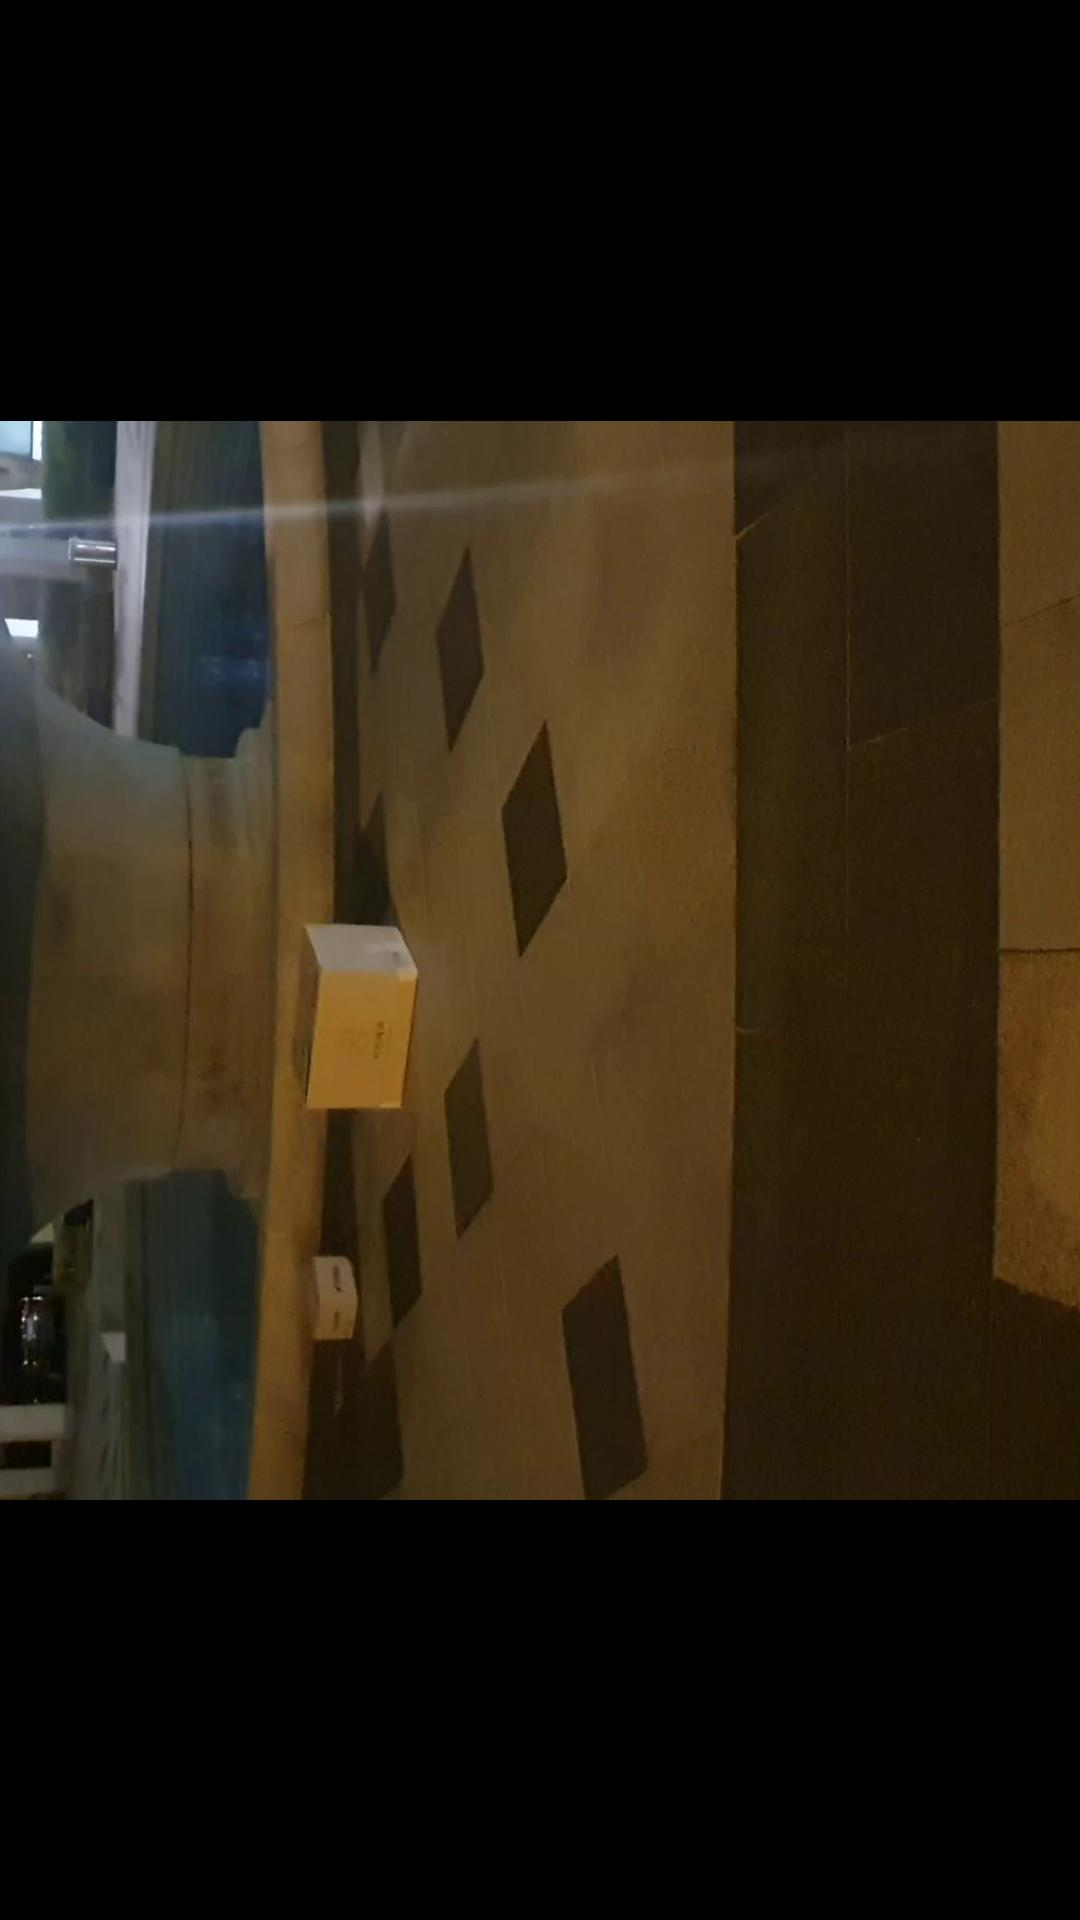Box: (285, 907, 425, 1120), (290, 1244, 360, 1346)
